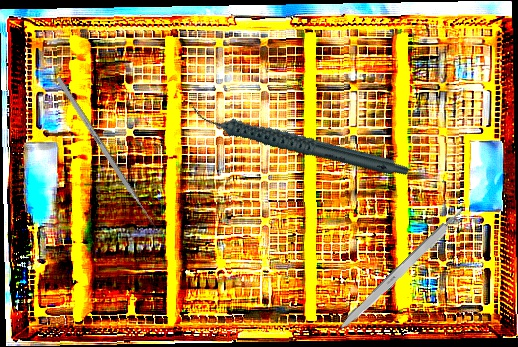Handpiece: (188, 64, 411, 219)
Pusher: (55, 76, 161, 234)
Scalpel Handle: (335, 206, 468, 336)
